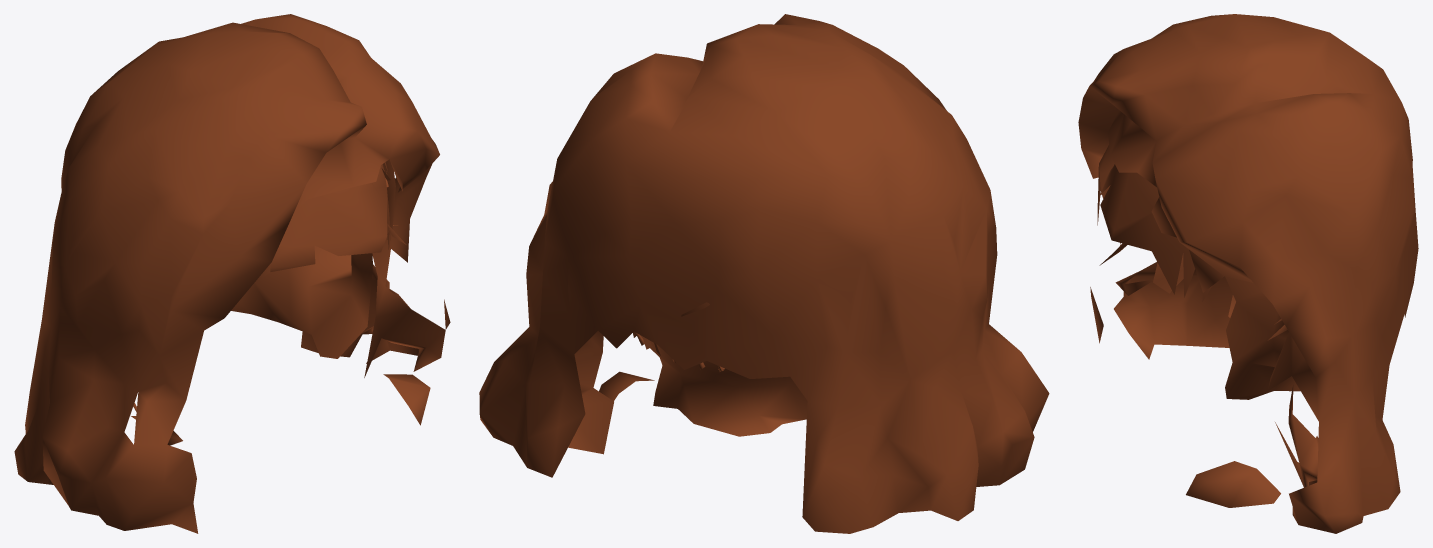
Rendered from long-wavy.glb.
The picture shows the model from 3 angles, left to right: view 1: azimuth 30°, elevation 25°; view 2: azimuth 150°, elevation 25°; view 3: azimuth 270°, elevation 25°; orthographic projection. The views are drawn at different scales.
Parts seen in each view (by area): view 1: Hair, HairScalp; view 2: Hair, HairScalp; view 3: Hair, HairScalp.
Boxes of the visible parts, <box> form: Hair: <box>14,14,450,533</box>; HairScalp: <box>231,164,390,358</box>; Hair: <box>479,14,1049,533</box>; HairScalp: <box>640,302,807,436</box>; Hair: <box>1078,14,1418,533</box>; HairScalp: <box>1100,164,1300,399</box>.
Bounding box in the file's own units: 0.7283 × 0.5967 × 0.4639.
